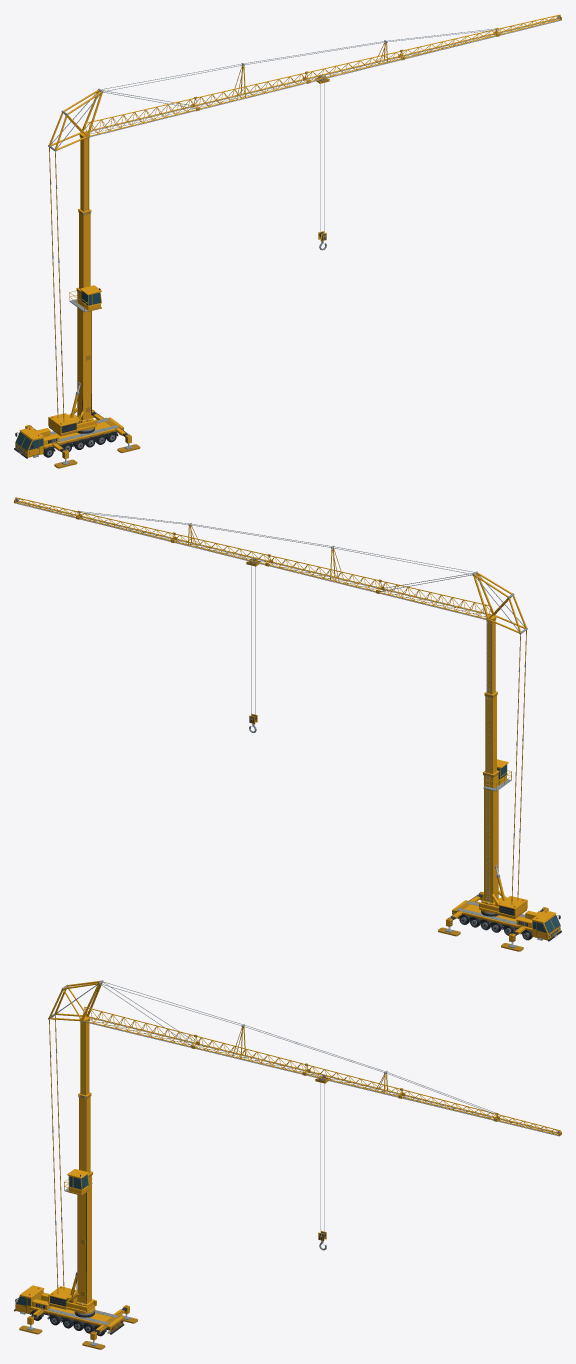
3 renders of one model, top to bottom at view 1: azimuth 30°, elevation 25°; view 2: azimuth 150°, elevation 25°; view 3: azimuth 330°, elevation 25°, orthographic.
Parts seen in each view (by area): view 1: SLEW__SK1265_yellow.001, SLEW__SK1265_metal.001, SLEW__SK1265_yellow_dark.001, EQUIPMENT_ROOT__SK1265_yellow.001, EQUIPMENT_ROOT__SK1265_charcoal.001, EQUIPMENT_ROOT__SK1265_metal.001; view 2: SLEW__SK1265_yellow.001, SLEW__SK1265_metal.001, SLEW__SK1265_yellow_dark.001, EQUIPMENT_ROOT__SK1265_yellow.001, EQUIPMENT_ROOT__SK1265_charcoal.001, EQUIPMENT_ROOT__SK1265_metal.001; view 3: SLEW__SK1265_yellow.001, SLEW__SK1265_metal.001, SLEW__SK1265_yellow_dark.001, EQUIPMENT_ROOT__SK1265_yellow.001, EQUIPMENT_ROOT__SK1265_charcoal.001, EQUIPMENT_ROOT__SK1265_yellow_dark.001, EQUIPMENT_ROOT__SK1265_metal.001.
Boxes of the visible parts, x1=… form: SLEW__SK1265_yellow.001: x1=48, y1=14, x2=560, y2=434; SLEW__SK1265_metal.001: x1=48, y1=15, x2=560, y2=421; SLEW__SK1265_yellow_dark.001: x1=49, y1=17, x2=561, y2=436; EQUIPMENT_ROOT__SK1265_yellow.001: x1=15, y1=409, x2=131, y2=458; EQUIPMENT_ROOT__SK1265_charcoal.001: x1=14, y1=412, x2=127, y2=458; EQUIPMENT_ROOT__SK1265_metal.001: x1=17, y1=418, x2=136, y2=464; SLEW__SK1265_yellow.001: x1=15, y1=497, x2=527, y2=917; SLEW__SK1265_metal.001: x1=15, y1=498, x2=527, y2=904; SLEW__SK1265_yellow_dark.001: x1=14, y1=500, x2=526, y2=918; EQUIPMENT_ROOT__SK1265_yellow.001: x1=446, y1=891, x2=560, y2=942; EQUIPMENT_ROOT__SK1265_charcoal.001: x1=450, y1=894, x2=561, y2=941; EQUIPMENT_ROOT__SK1265_metal.001: x1=441, y1=901, x2=558, y2=948; SLEW__SK1265_yellow.001: x1=48, y1=980, x2=560, y2=1313; SLEW__SK1265_metal.001: x1=48, y1=980, x2=560, y2=1311; SLEW__SK1265_yellow_dark.001: x1=49, y1=1015, x2=561, y2=1309; EQUIPMENT_ROOT__SK1265_yellow.001: x1=15, y1=1285, x2=129, y2=1340; EQUIPMENT_ROOT__SK1265_charcoal.001: x1=14, y1=1296, x2=126, y2=1334; EQUIPMENT_ROOT__SK1265_yellow_dark.001: x1=19, y1=1305, x2=137, y2=1349; EQUIPMENT_ROOT__SK1265_metal.001: x1=20, y1=1304, x2=134, y2=1346.
Bounding box in the file's own units: 68.23 × 42.1 × 8.66.
